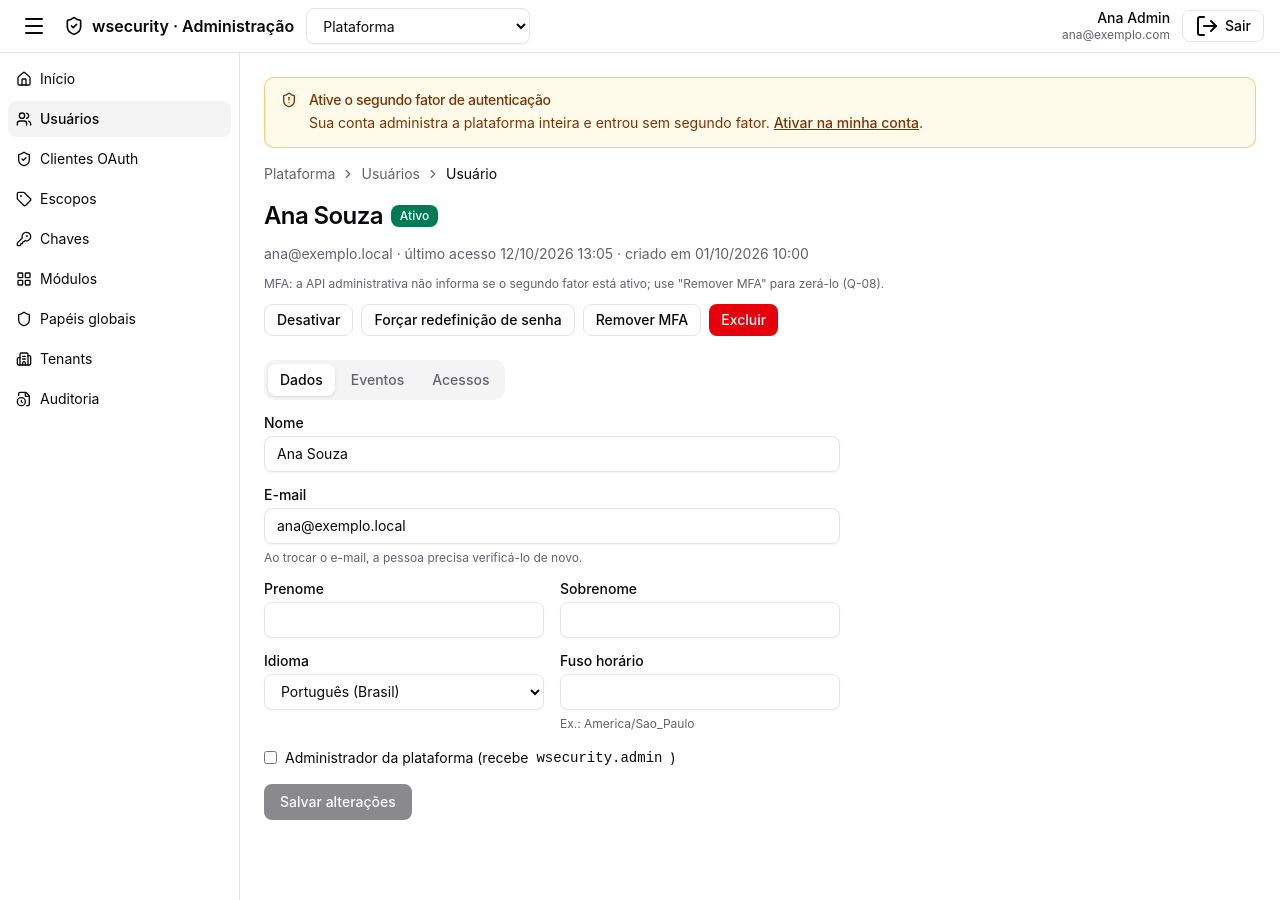
Test: usuários › exclusão exige digitar o e-mail
Click the button "Excluir": (744, 320) [709,304,778,336]
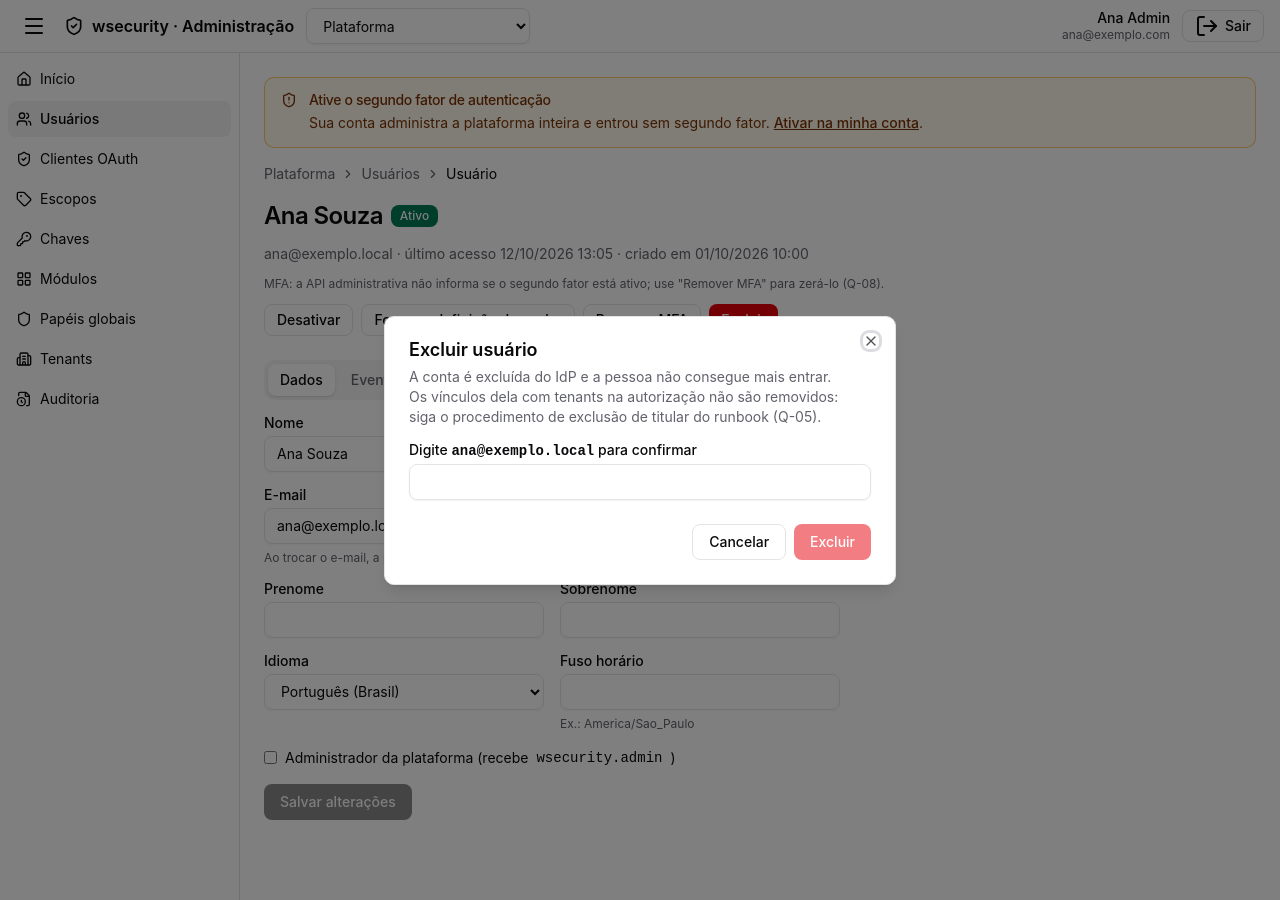
expect the text "Q-05" is shown: met, box [409,368,838,424]
expect the button "Excluir" below "para confirmar" is disabled: met, box [794,524,871,560]
In the field labelled "Digite ana@exemplo.local para confirmar": (640, 482) [409,464,871,500], type "ana@exemplo.local"
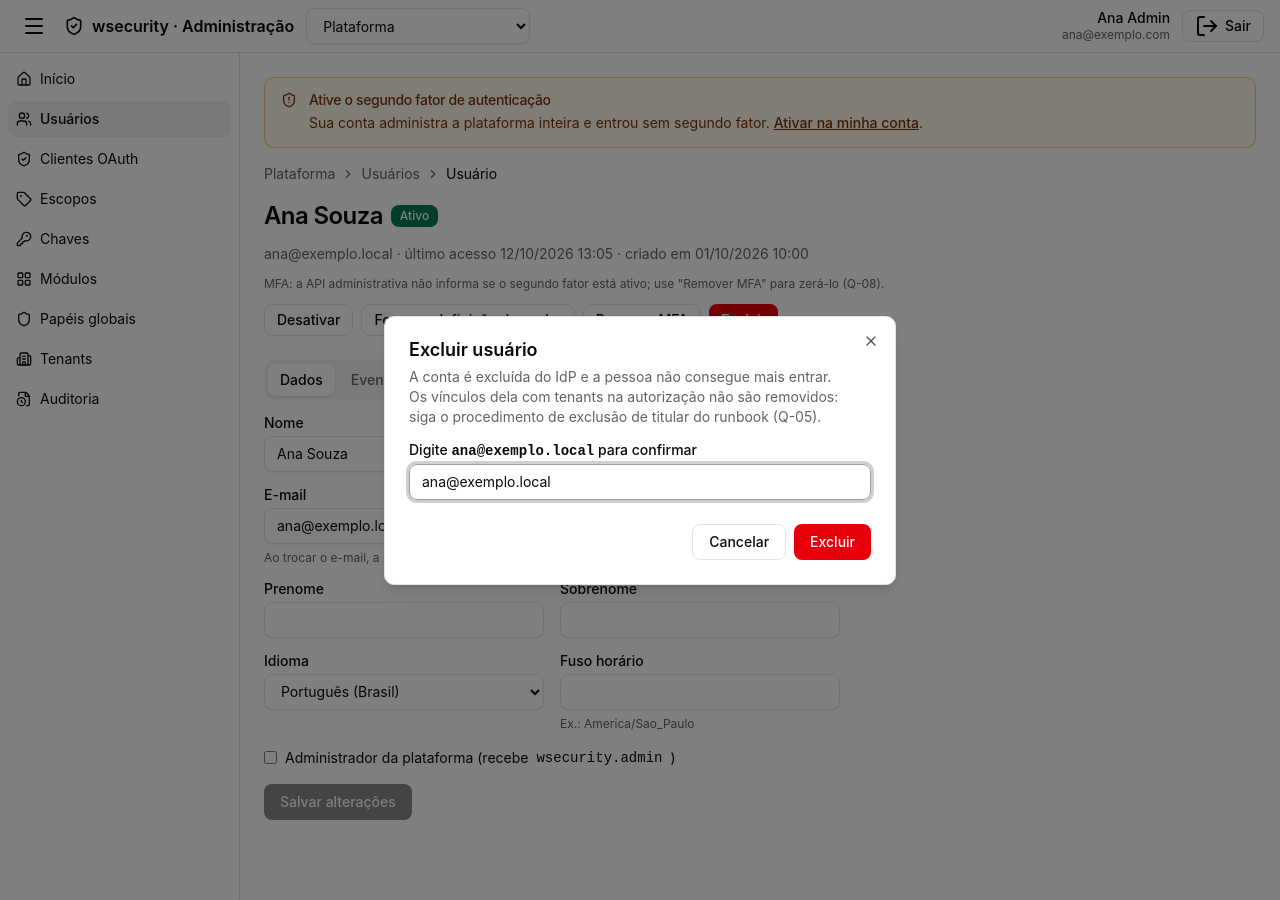
expect the button "Excluir" below "para confirmar" is enabled: met, box [794,524,871,560]
